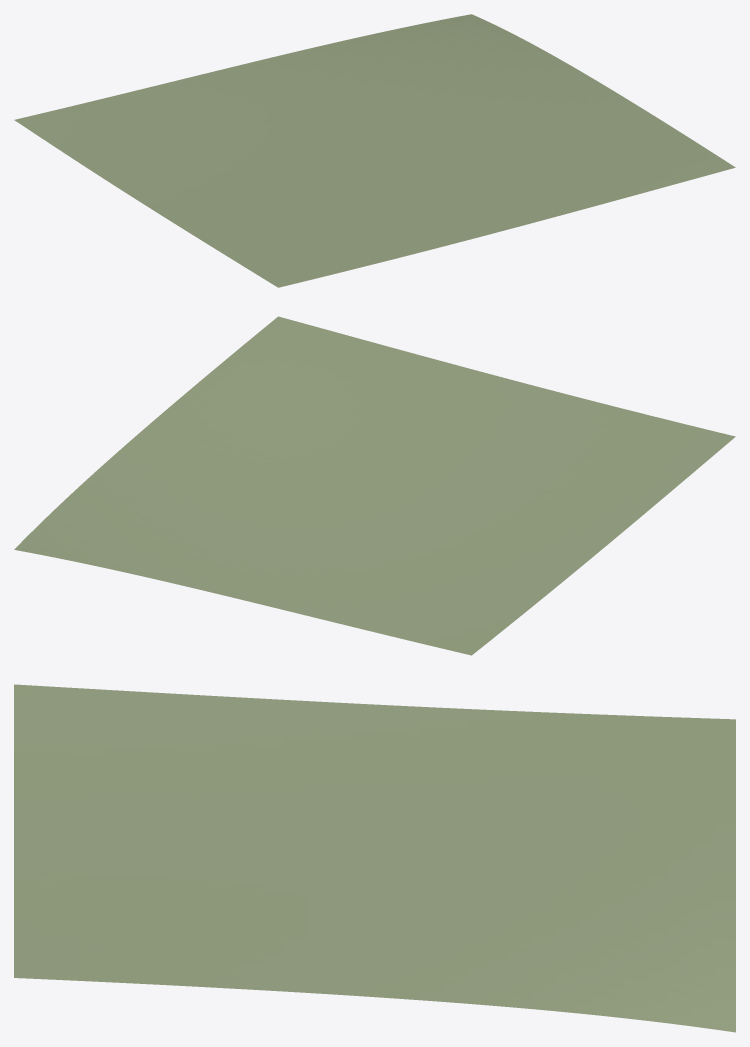
The model's file is expanse-5-8.glb.
3 views of the same model, one above another, from view 1: azimuth 30°, elevation 25°; view 2: azimuth 150°, elevation 25°; view 3: azimuth 270°, elevation 25° (orthographic). The views are drawn at different scales.
Visible parts, largest first — view 1: expanse-5-8; view 2: expanse-5-8; view 3: expanse-5-8.
Boxes of the visible parts, x1,y1,x2,y2 form: expanse-5-8: [14, 14, 735, 287]; expanse-5-8: [14, 316, 735, 655]; expanse-5-8: [14, 684, 735, 1032].
Bounding box in the file's own units: 256 × 21.35 × 256.
